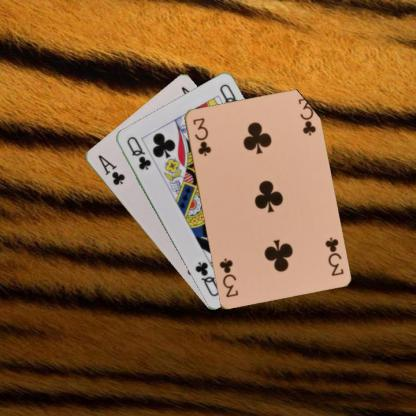3c: (322, 235, 344, 278), (190, 115, 212, 157)
Ac: (94, 152, 126, 187)
Qc: (124, 133, 152, 171)
